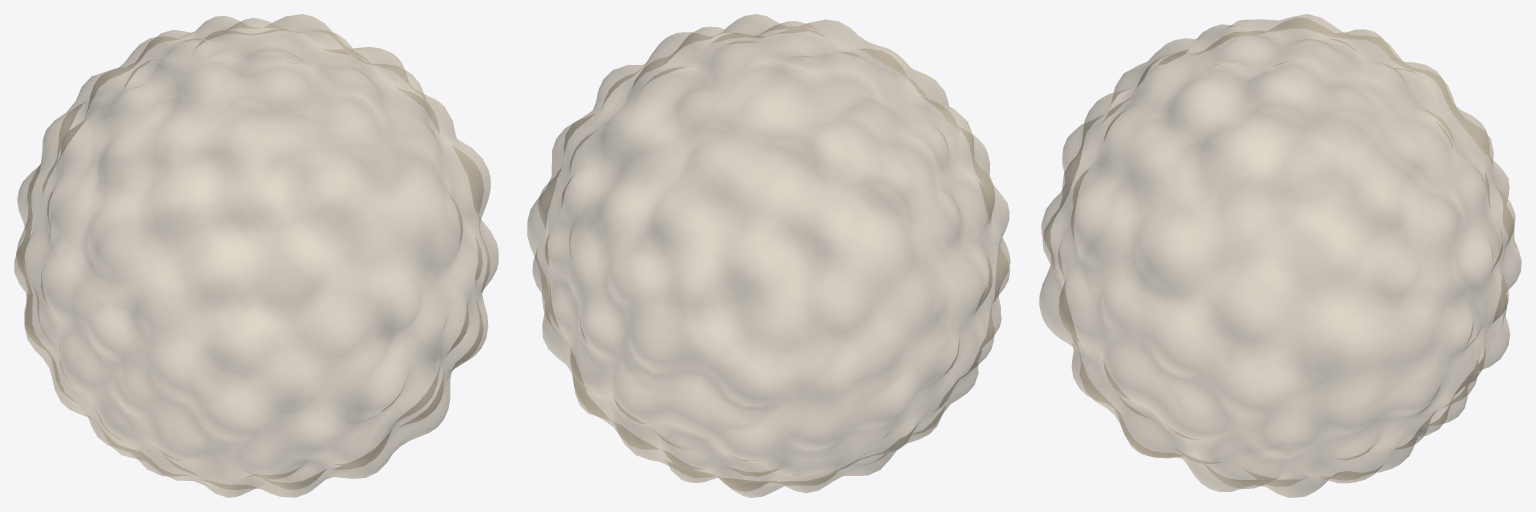
The model's file is tumor.fbx.
3 views of the same model, side by side, from view 1: azimuth 30°, elevation 25°; view 2: azimuth 150°, elevation 25°; view 3: azimuth 270°, elevation 25° (orthographic).
Parts seen in each view (by area): view 1: Tumor.001; view 2: Tumor.001; view 3: Tumor.001.
Part boxes in pixels (left/top/right/bottom): Tumor.001: left=14, top=14, right=498, bottom=497; Tumor.001: left=527, top=14, right=1010, bottom=497; Tumor.001: left=1039, top=14, right=1521, bottom=497.
Bounding box in the file's own units: 779 × 774 × 769.
